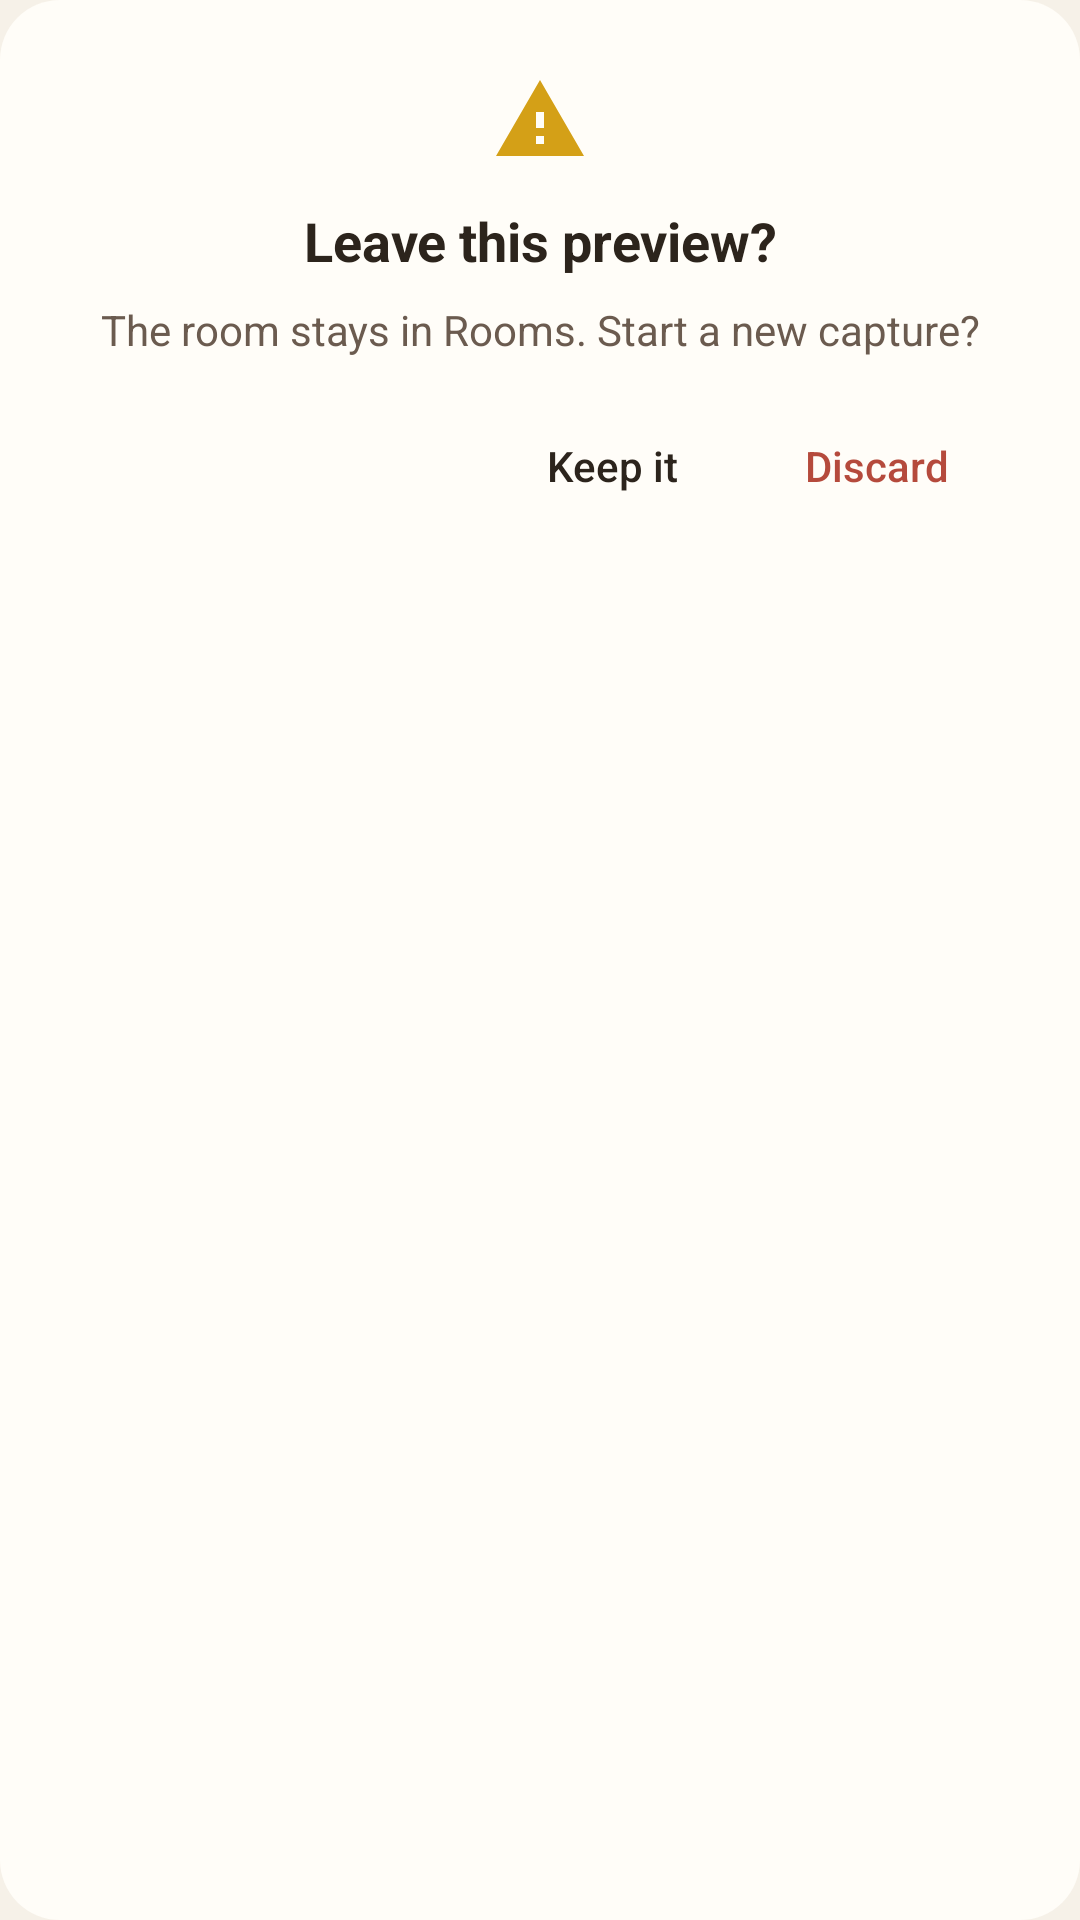

Icons on this 1080 x 1920 Android screen, each with its box as Rect(x1, y1, x2, y2):
warning: Rect(496, 80, 584, 156)
